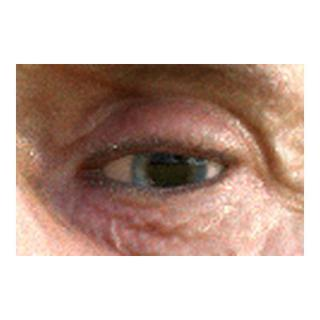pupil: (148, 151, 188, 190)
